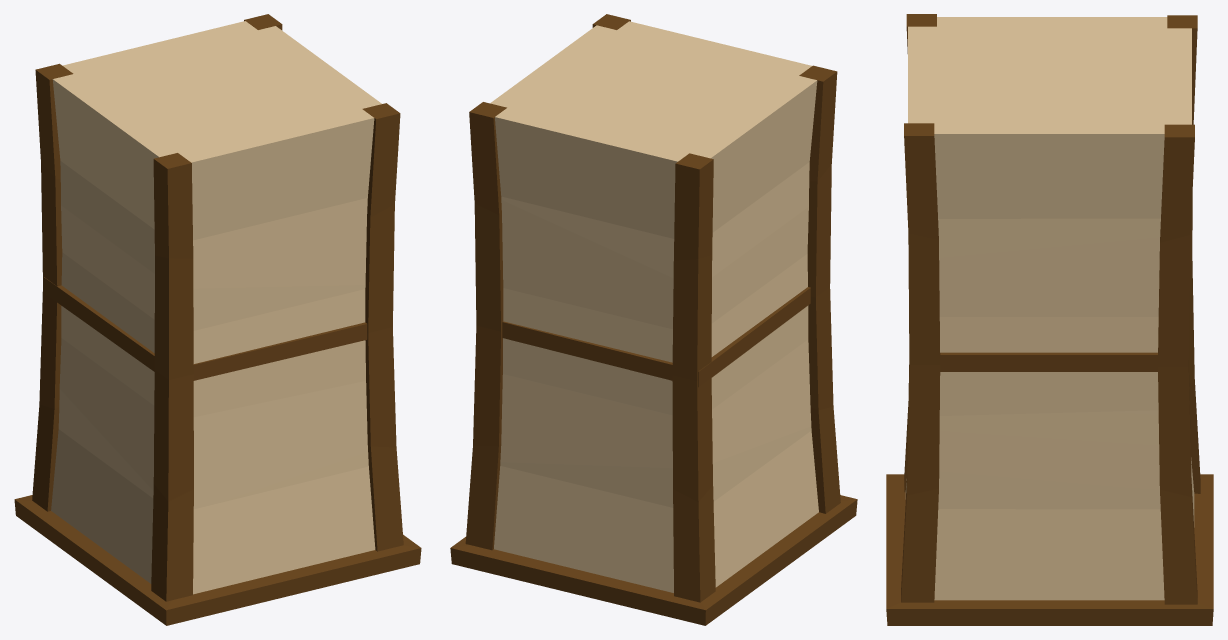
The model's file is SmallHouse_02.fbx.
3 renders of one model, left to right at view 1: azimuth 30°, elevation 25°; view 2: azimuth 150°, elevation 25°; view 3: azimuth 270°, elevation 25°, orthographic. The views are drawn at different scales.
Visible parts, largest first — view 1: SmallHouse_02; view 2: SmallHouse_02; view 3: SmallHouse_02.
Part boxes in pixels (bbox=[...]): SmallHouse_02: bbox=[14, 14, 421, 625]; SmallHouse_02: bbox=[450, 14, 857, 625]; SmallHouse_02: bbox=[886, 14, 1213, 625].
Bounding box in the file's own units: 304 × 510 × 313.
